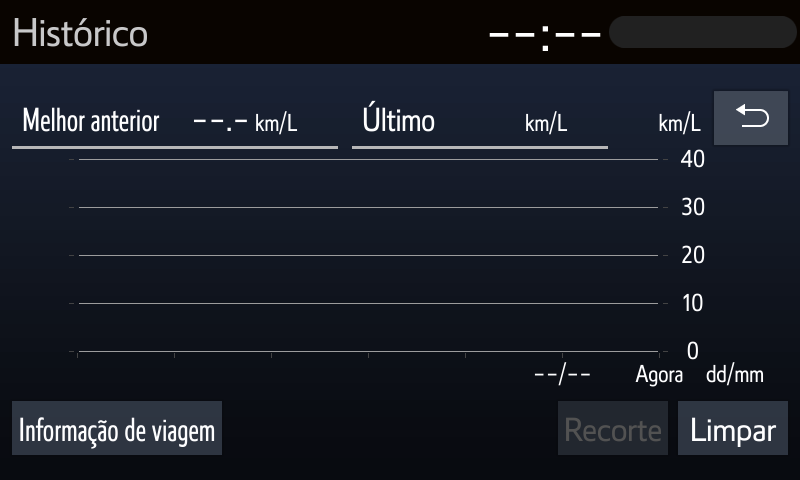touchPart: (9, 395, 225, 459), (675, 398, 790, 459), (713, 86, 790, 152)
untouchPart: (8, 93, 703, 390), (483, 5, 796, 54), (554, 398, 670, 457), (13, 15, 153, 53)
